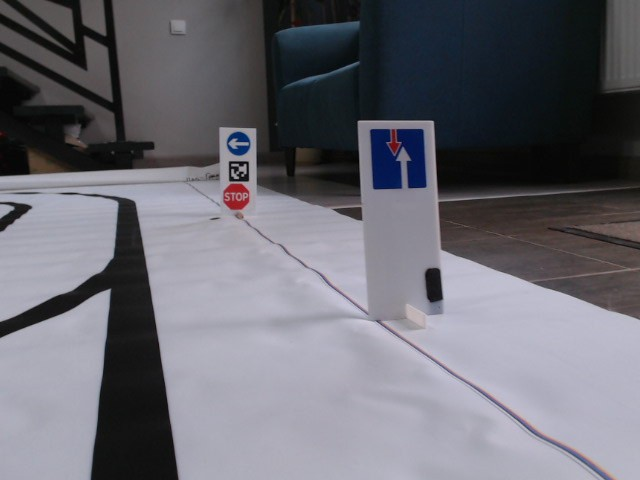Stop: (222, 182, 251, 211)
priority_movement: (369, 125, 429, 191)
